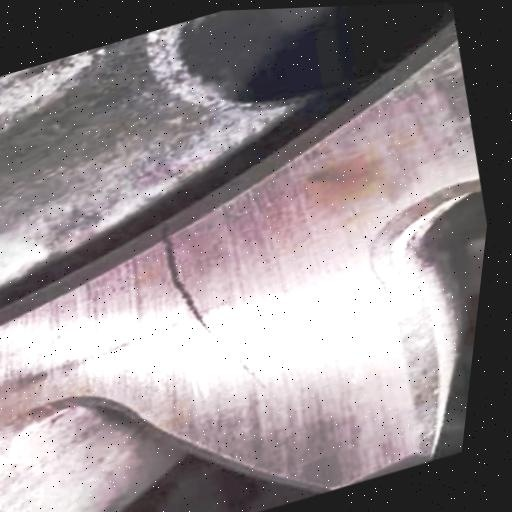crack: (117, 196, 302, 433)
